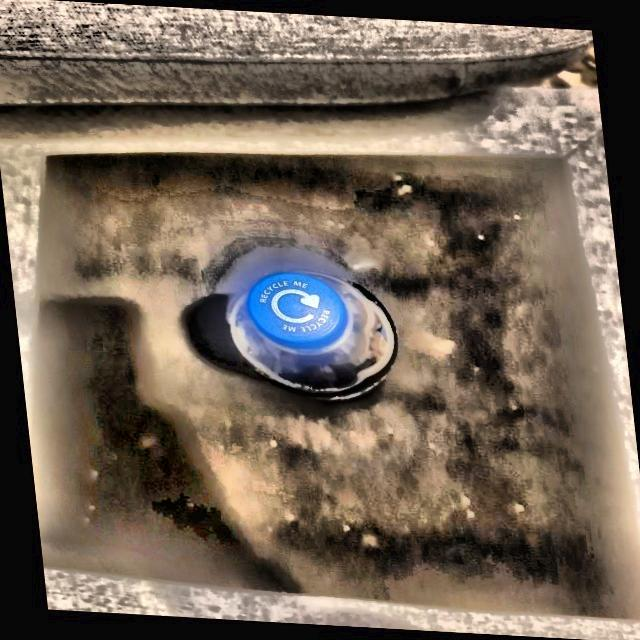pepsi-bottle: (225, 272, 392, 405)
